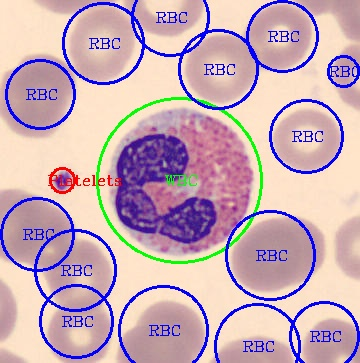Platelets: (47, 166, 77, 196)
RBC: (0, 50, 76, 139), (0, 190, 76, 270), (42, 238, 115, 317), (230, 216, 303, 295), (183, 33, 261, 105), (67, 5, 135, 84), (123, 296, 204, 361), (240, 2, 312, 73), (272, 106, 344, 173), (45, 303, 114, 361), (278, 214, 328, 287), (121, 0, 207, 38), (115, 324, 195, 362), (300, 315, 359, 361)
WBC: (104, 108, 254, 257)
